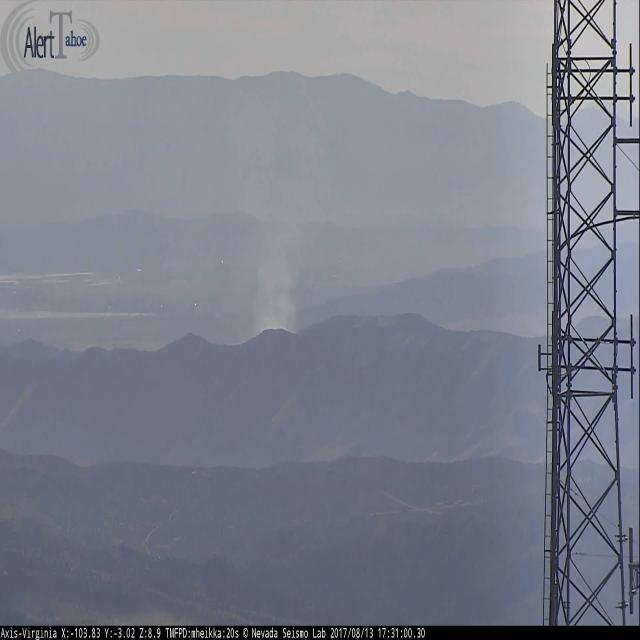smoke: (250, 235, 298, 333)
